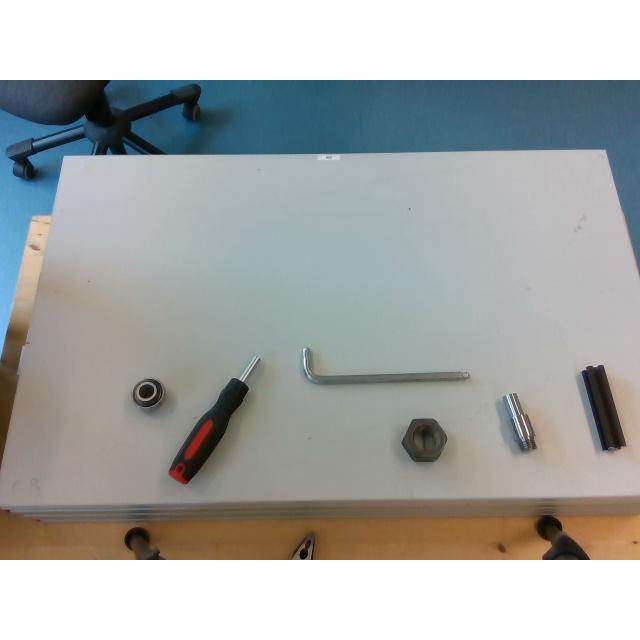AllenKey: (300, 348, 468, 384)
Axis2: (504, 392, 536, 450)
Bearing2: (132, 378, 164, 407)
F20_20_B: (581, 366, 625, 450)
M30: (402, 418, 446, 462)
